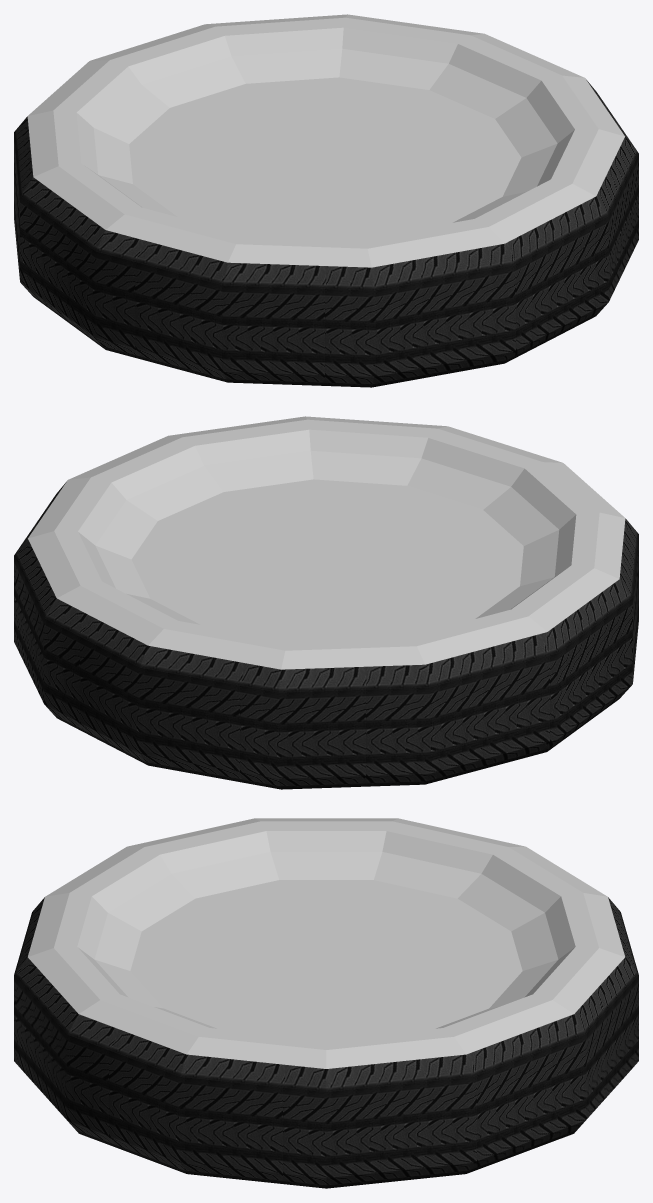
Rendered from arabaLastigi.FBX.
The picture shows the model from 3 angles, top to bottom: view 1: azimuth 30°, elevation 25°; view 2: azimuth 150°, elevation 25°; view 3: azimuth 270°, elevation 25°; orthographic projection.
Parts seen in each view (by area): view 1: Cylinder001; view 2: Cylinder001; view 3: Cylinder001.
Part boxes in pixels (x1=…): Cylinder001: x1=14, y1=14, x2=638, y2=387; Cylinder001: x1=14, y1=416, x2=638, y2=789; Cylinder001: x1=14, y1=818, x2=638, y2=1188.
Size of the model in its own units: 74.73 by 17.76 by 75.28.
